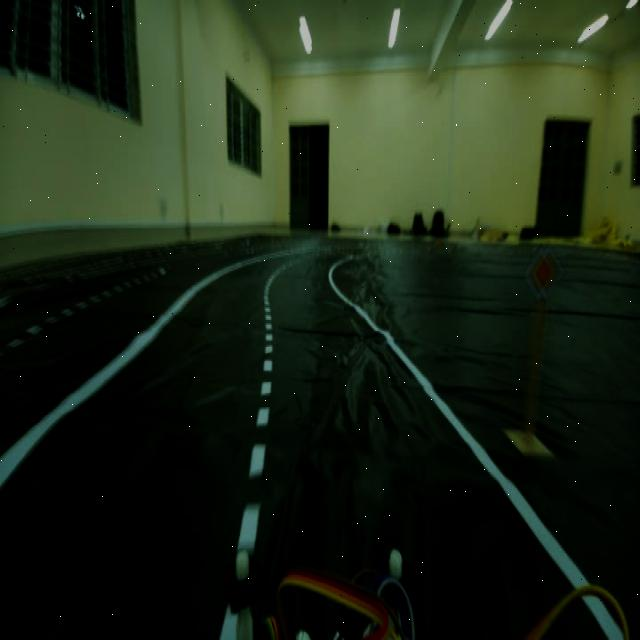priority: (524, 243, 560, 315)
